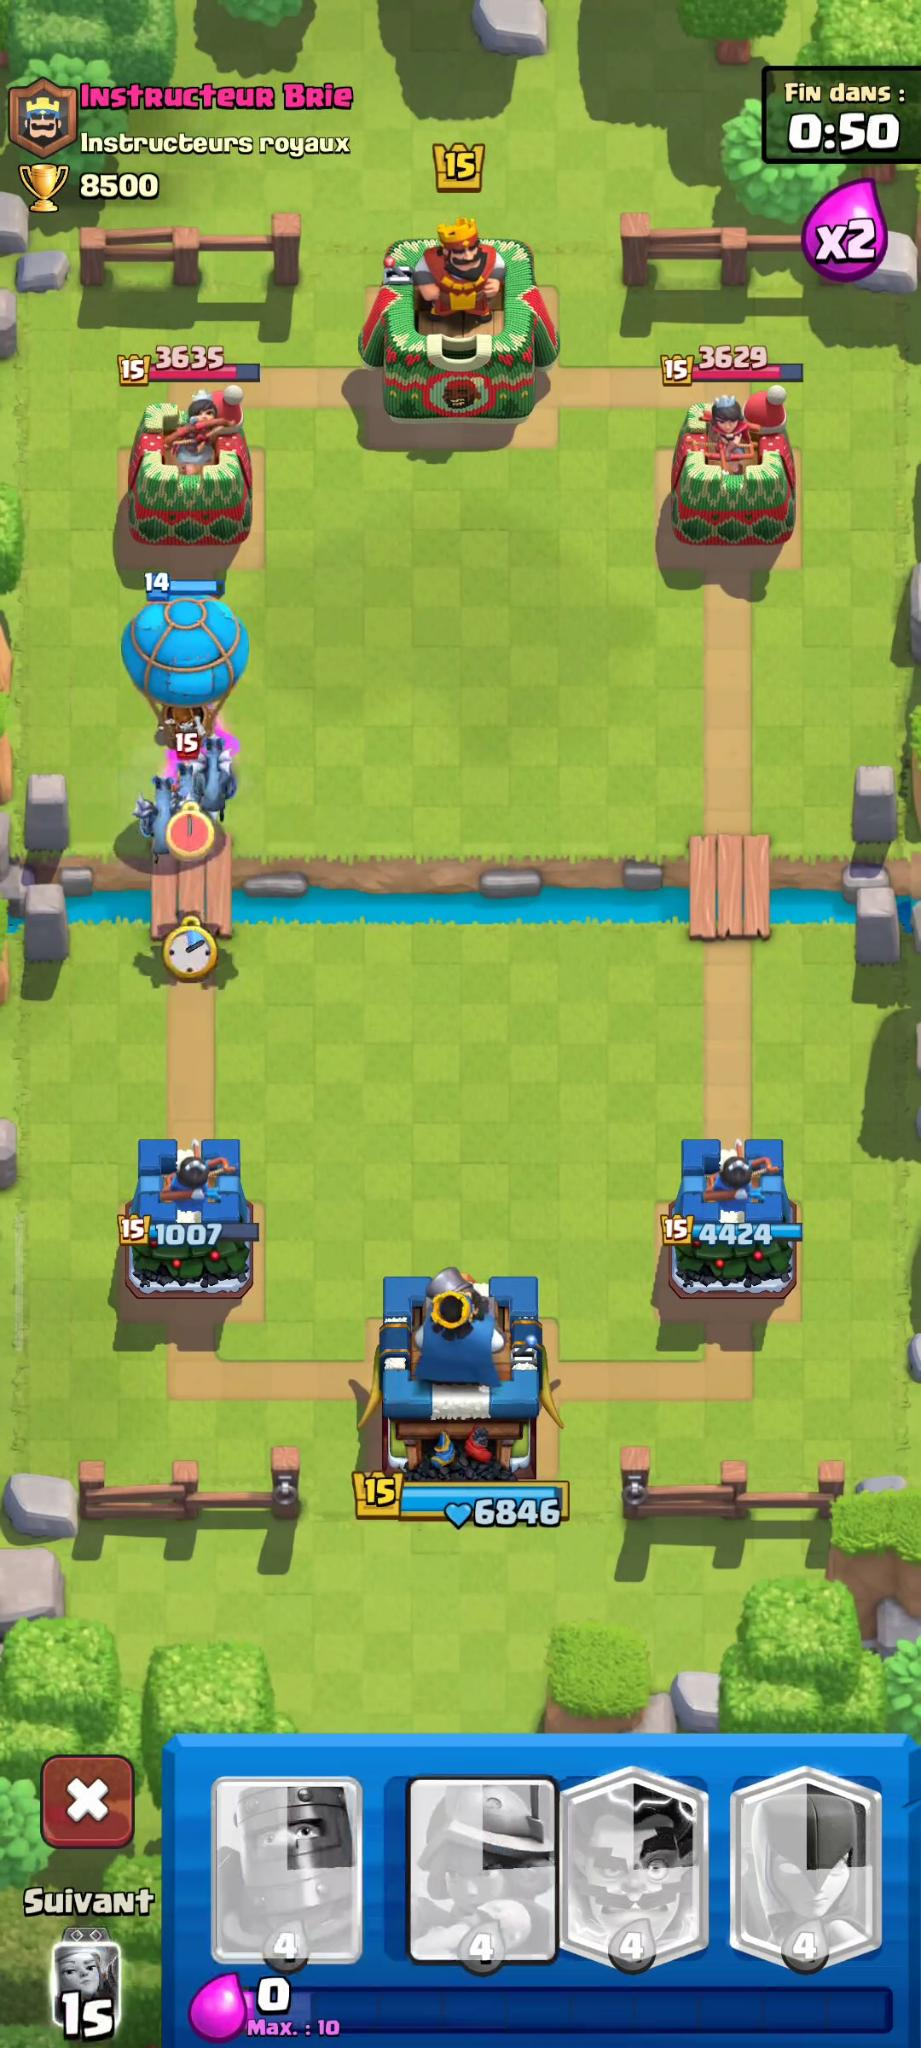gargouille: (127, 776, 191, 859), (163, 751, 213, 819), (195, 738, 240, 778)
